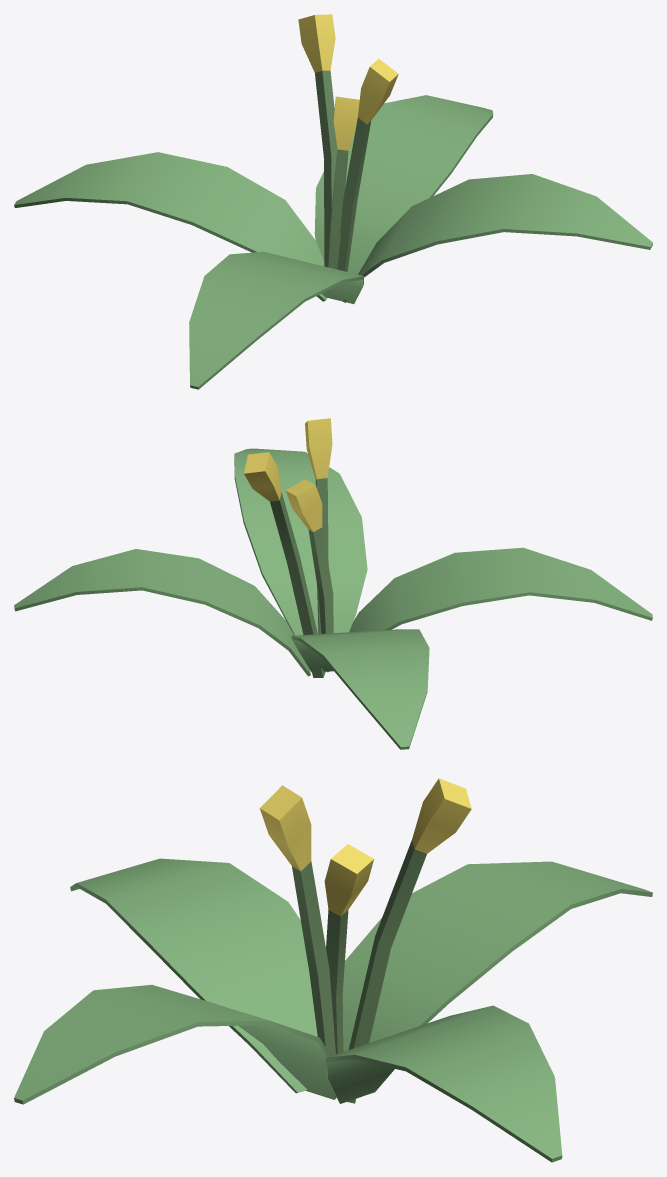
The model's file is Plants_Pack_Flower_01.001.fbx.
3 views of the same model, one above another, from view 1: azimuth 30°, elevation 25°; view 2: azimuth 150°, elevation 25°; view 3: azimuth 270°, elevation 25° (orthographic). The views are drawn at different scales.
Visible parts, largest first — view 1: Plants_Pack_Flower_01.001; view 2: Plants_Pack_Flower_01.001; view 3: Plants_Pack_Flower_01.001.
Part boxes in pixels (x1,y1,x2,y2): Plants_Pack_Flower_01.001: (14,14,652,389); Plants_Pack_Flower_01.001: (14,418,652,749); Plants_Pack_Flower_01.001: (14,778,652,1162).
Bounding box in the file's own units: 109 × 54.58 × 94.58.
